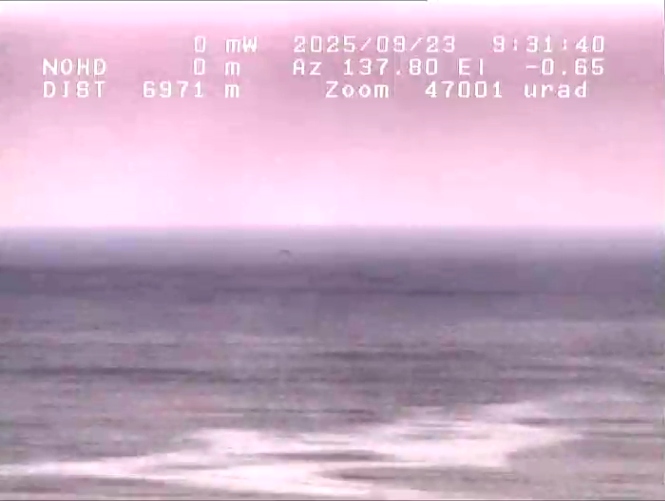TUGS: (276, 245, 305, 265)
